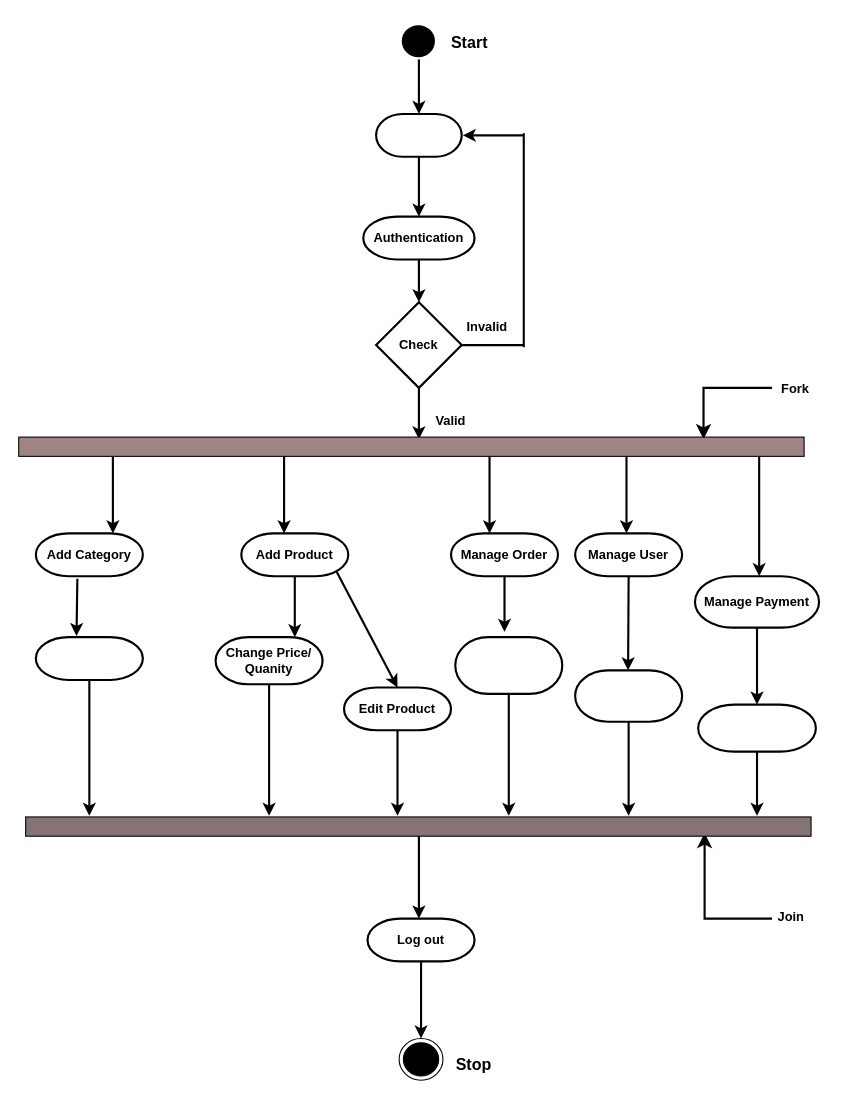
Image size: 846x1099. Some labels were removed from this diagram. The centre of each missing label's shape, as x and y in pixels:
Active/Inactive user: (x=628, y=695)
Confirm / cancel Order: (x=508, y=665)
Confirm / cancel Payment: (x=756, y=727)
Login: (x=418, y=134)
View Detail: (x=88, y=658)
